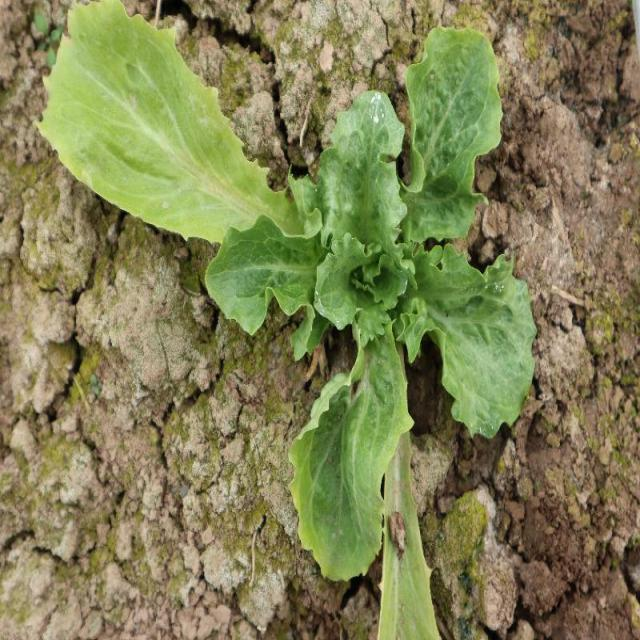crop: (207, 31, 537, 585)
